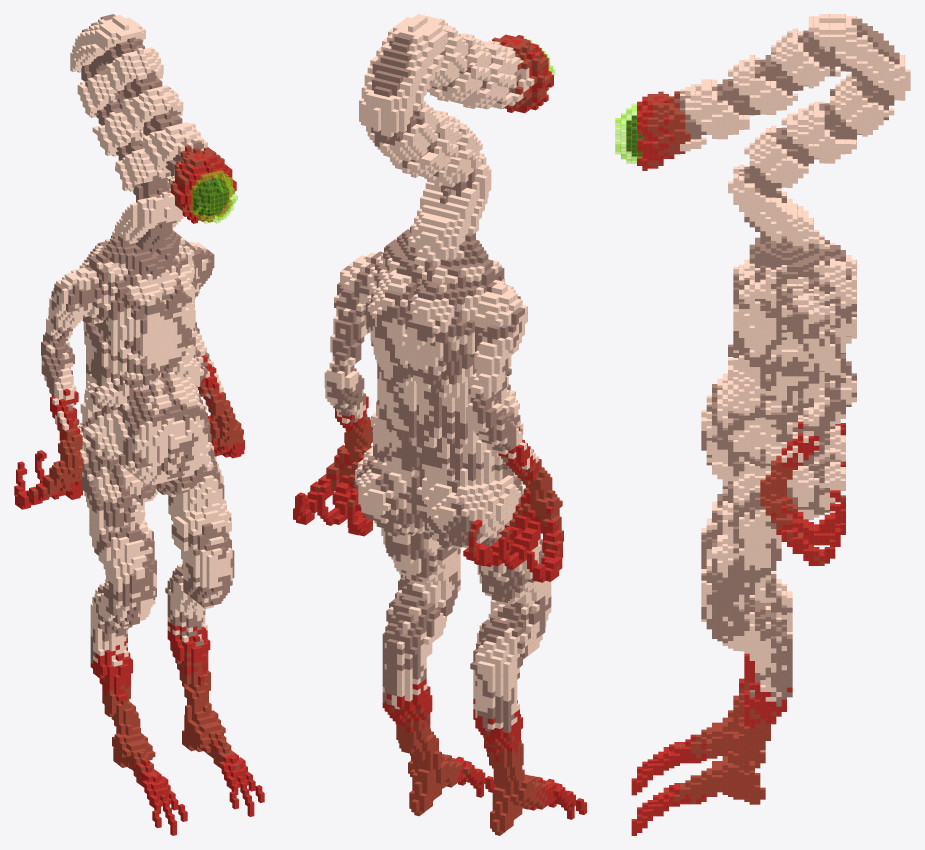
Rendered from metal_slug_-_boss_organic.glb.
3 renders of one model, left to right at view 1: azimuth 30°, elevation 25°; view 2: azimuth 150°, elevation 25°; view 3: azimuth 270°, elevation 25°, orthographic. The views are drawn at different scales.
Visible parts, largest first — view 1: Object_2, Object_5, Object_3, Object_4; view 2: Object_2, Object_5, Object_3; view 3: Object_2, Object_3, Object_5, Object_4.
Boxes of the visible parts, x1=… form: Object_2: x1=19, y1=15, x2=243, y2=783; Object_5: x1=14, y1=152, x2=264, y2=835; Object_3: x1=96, y1=14, x2=217, y2=636; Object_4: x1=189, y1=170, x2=237, y2=223; Object_2: x1=315, y1=14, x2=563, y2=835; Object_5: x1=293, y1=34, x2=586, y2=819; Object_3: x1=365, y1=32, x2=515, y2=682; Object_2: x1=637, y1=14, x2=910, y2=804; Object_3: x1=674, y1=18, x2=899, y2=614; Object_5: x1=626, y1=96, x2=845, y2=835; Object_4: x1=615, y1=103, x2=642, y2=163.
Bounding box in the file's own units: 0.311 × 1 × 0.3354.
3 materials, 3 textured.
